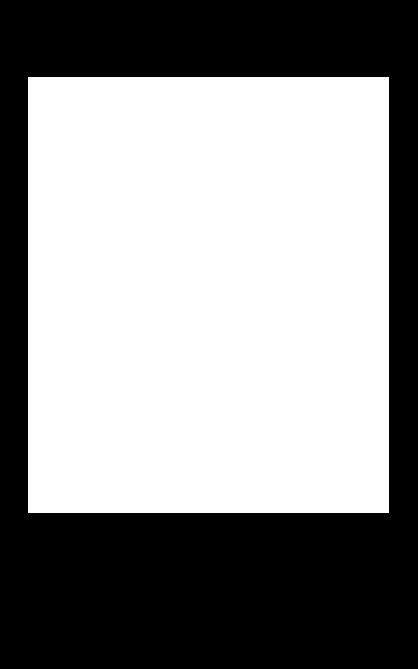table: (28, 77, 388, 512)
